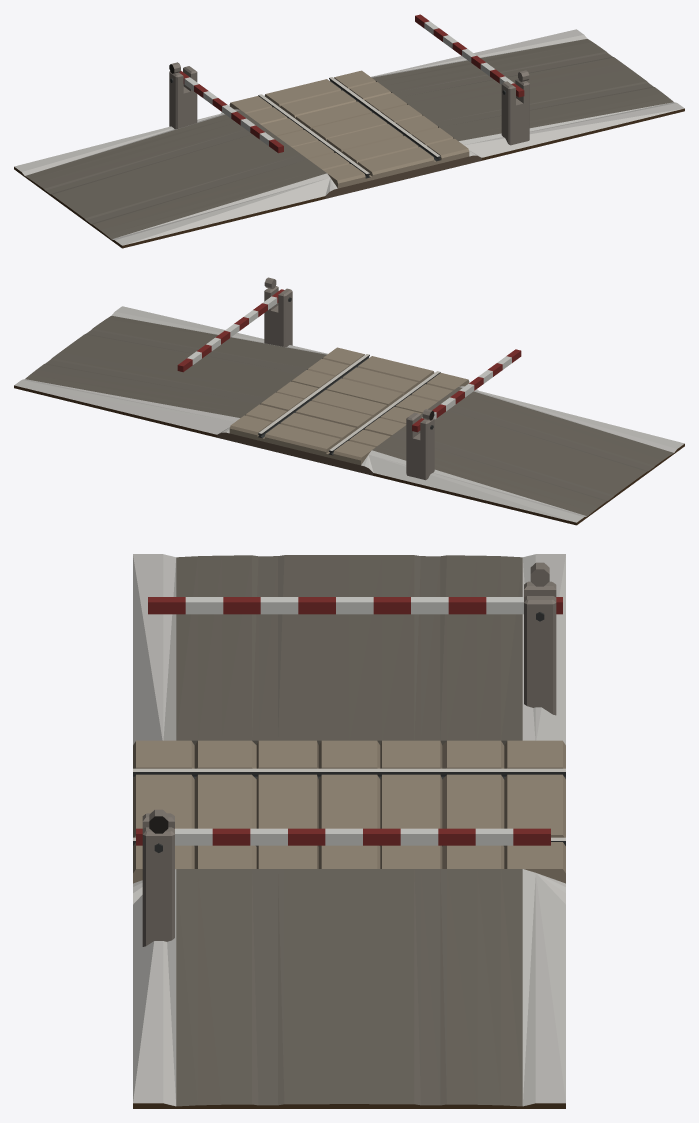
Rendered from level-crossing-37d00b.glb.
3 renders of one model, top to bottom at view 1: azimuth 30°, elevation 25°; view 2: azimuth 150°, elevation 25°; view 3: azimuth 270°, elevation 25°, orthographic. The views are drawn at different scales.
Parts seen in each view (by area): view 1: level-crossing-body, boom-west-arm, boom-east-arm; view 2: level-crossing-body, boom-east-arm, boom-west-arm; view 3: level-crossing-body, boom-west-arm, boom-east-arm.
Part boxes in pixels (left/top/right/bottom): level-crossing-body: left=14, top=29, right=684, bottom=248; boom-west-arm: left=179, top=71, right=283, bottom=153; boom-east-arm: left=415, top=14, right=524, bottom=97; level-crossing-body: left=14, top=277, right=684, bottom=525; boom-east-arm: left=177, top=289, right=284, bottom=372; boom-west-arm: left=412, top=349, right=521, bottom=432; level-crossing-body: left=133, top=554, right=565, bottom=1108; boom-west-arm: left=148, top=597, right=562, bottom=614; boom-east-arm: left=136, top=828, right=550, bottom=845.
Size of the model in its own units: 12 by 1.48 by 4.
